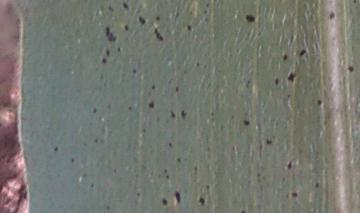tarspot: (104, 24, 119, 44), (152, 25, 165, 43), (286, 70, 296, 85), (244, 13, 256, 24), (136, 15, 147, 26), (327, 10, 336, 22), (106, 1, 115, 13), (244, 78, 252, 91), (168, 109, 177, 120), (174, 190, 181, 204), (346, 64, 355, 74), (240, 118, 251, 126), (198, 196, 205, 208), (204, 183, 211, 195), (298, 48, 307, 57), (290, 190, 299, 199), (179, 109, 188, 118), (120, 1, 129, 10), (147, 99, 155, 109), (160, 196, 168, 206), (288, 34, 295, 45), (264, 136, 272, 145), (104, 203, 112, 212), (173, 85, 180, 95), (286, 159, 292, 170), (285, 92, 293, 100), (316, 98, 323, 107), (273, 77, 280, 86), (185, 23, 192, 32), (175, 156, 182, 165), (91, 106, 98, 115), (280, 175, 287, 184), (174, 10, 181, 19), (104, 47, 110, 57), (115, 45, 121, 55), (192, 166, 198, 176), (100, 56, 107, 64), (154, 15, 162, 22), (166, 141, 173, 149), (126, 104, 133, 112), (140, 126, 148, 133), (89, 182, 95, 191), (122, 24, 129, 31), (282, 53, 288, 61), (314, 181, 320, 189), (149, 84, 157, 90), (52, 145, 58, 153), (204, 1, 210, 9), (255, 170, 261, 178), (69, 156, 75, 164), (92, 137, 98, 145), (162, 167, 168, 174), (203, 16, 209, 23), (209, 110, 215, 117), (195, 60, 200, 68), (164, 174, 170, 180), (131, 68, 136, 75), (202, 8, 207, 15), (135, 191, 140, 197), (239, 209, 246, 213), (352, 1, 357, 5)
